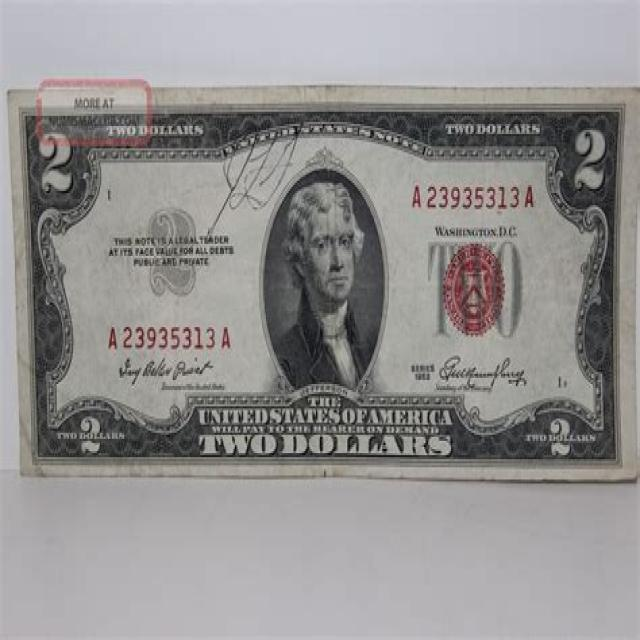Two: (5, 88, 640, 486)
